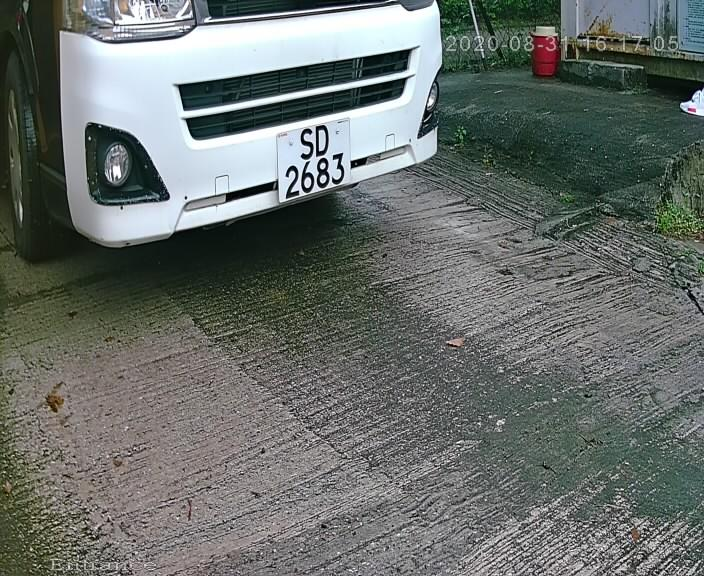Car: (38, 11, 488, 273)
License Plate: (265, 109, 365, 206)
